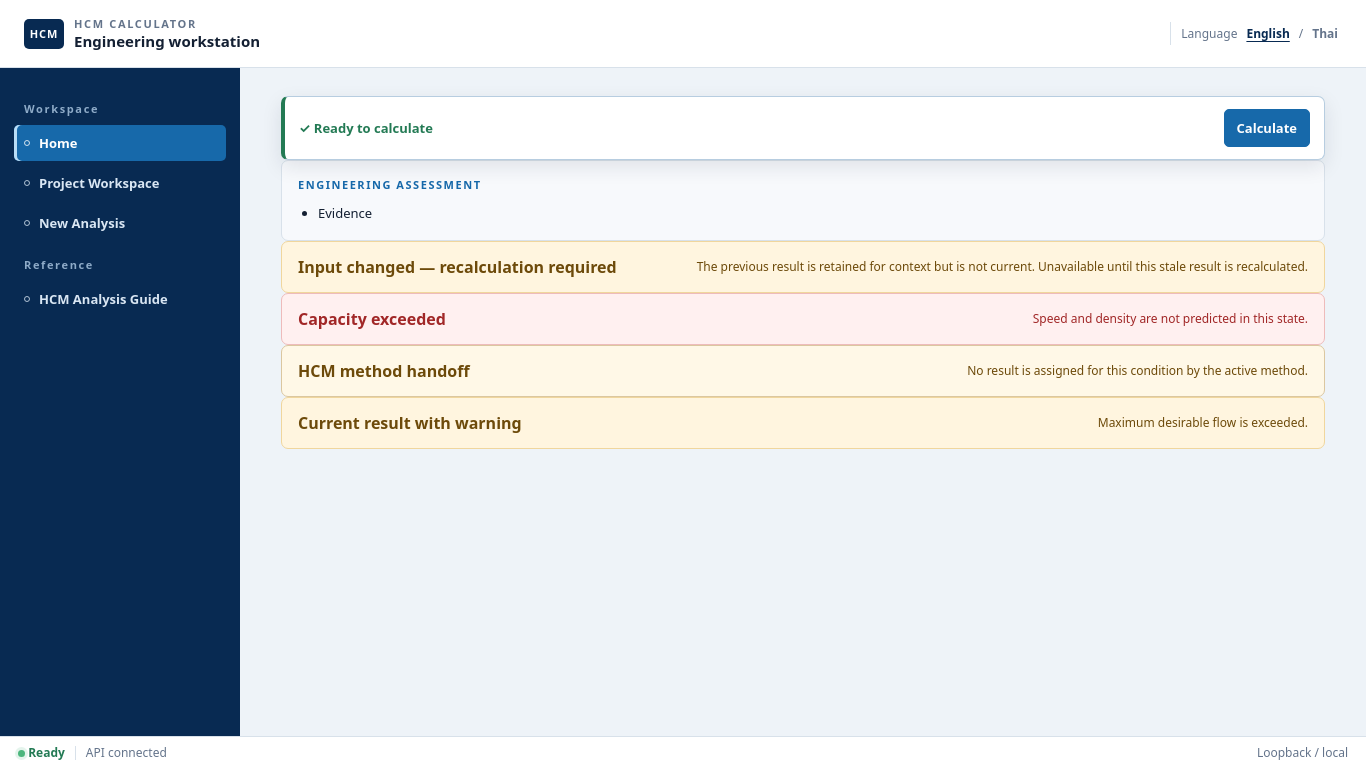
Test: R0 shared design-system primitives › uses the catalog for shared state and assessment text when the language changes
Expected: the text "✓ Ready to calculate" is shown, [299,119,433,137]
Expected: the text "ENGINEERING ASSESSMENT" is shown, [298,177,482,192]
Click the button "Thai" at (1325, 34), box [1308,22,1342,45]
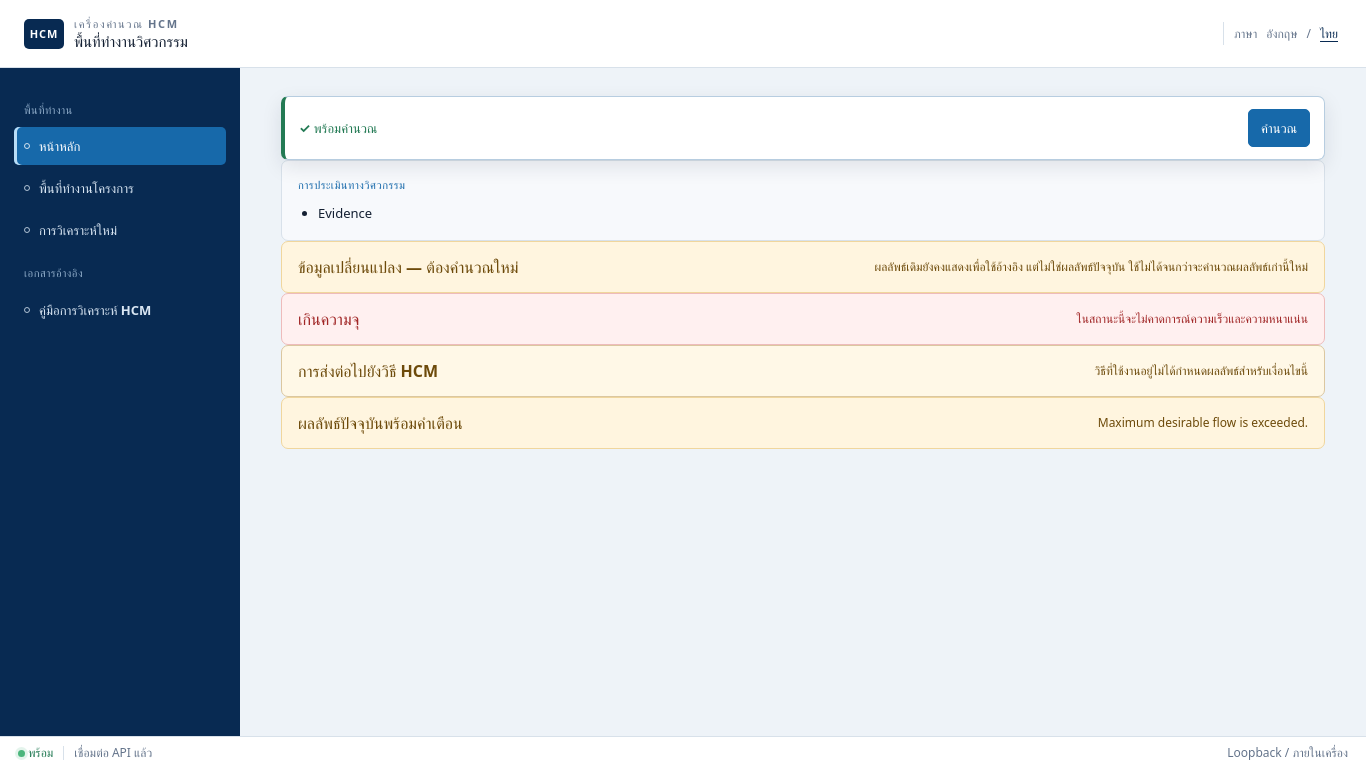
Expected: the text "✓ พร้อมคำนวณ" is shown, [299,119,377,137]
Expected: the text "การประเมินทางวิศวกรรม" is shown, [298,177,406,192]
Expected: the text "ข้อมูลเปลี่ยนแปลง — ต้องคำนวณใหม่" is shown, [298,256,518,278]
